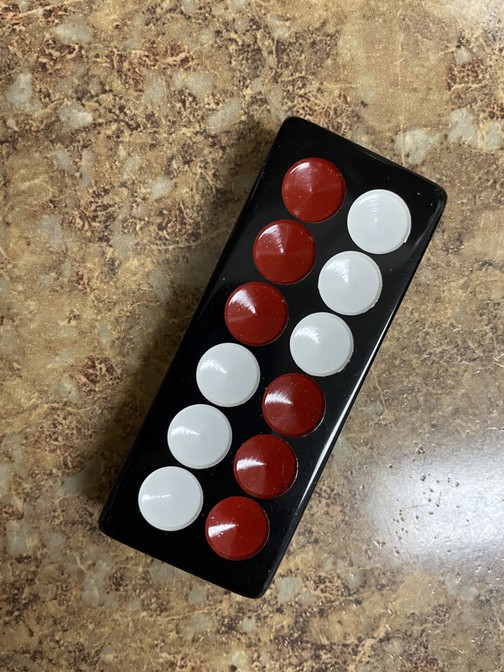heaven: (99, 118, 448, 600)
